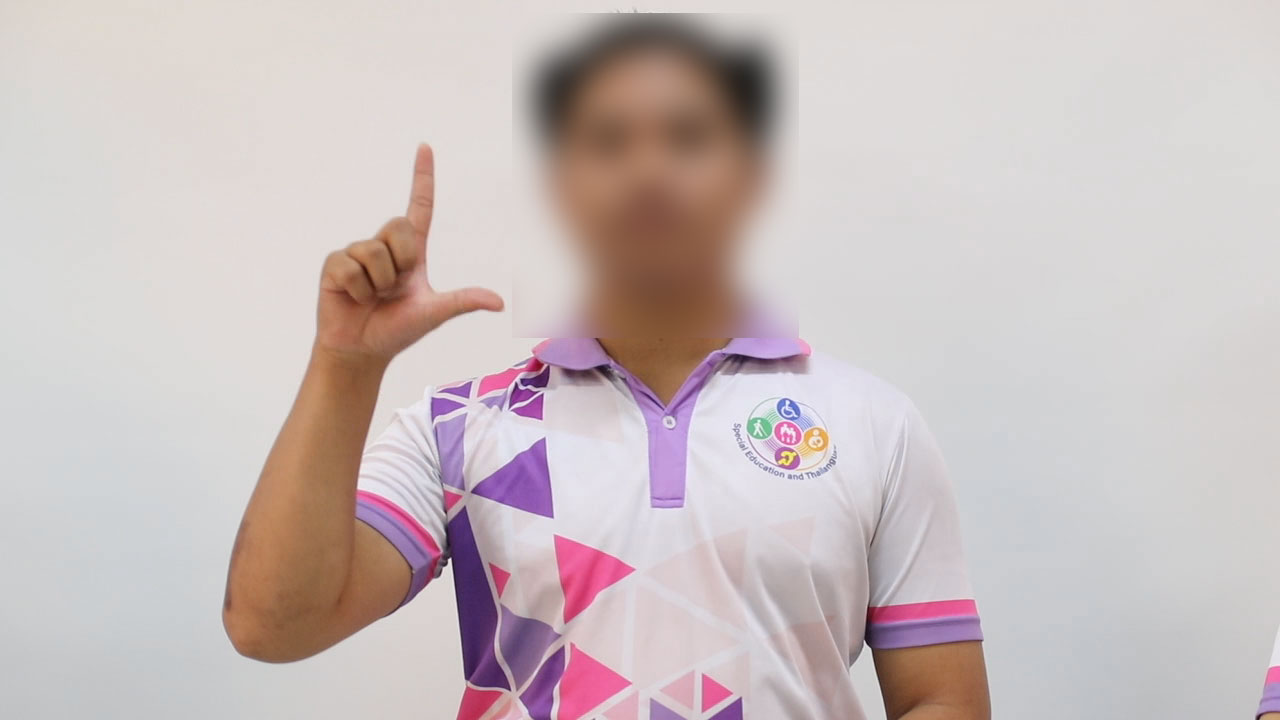lor: (296, 133, 516, 373)
